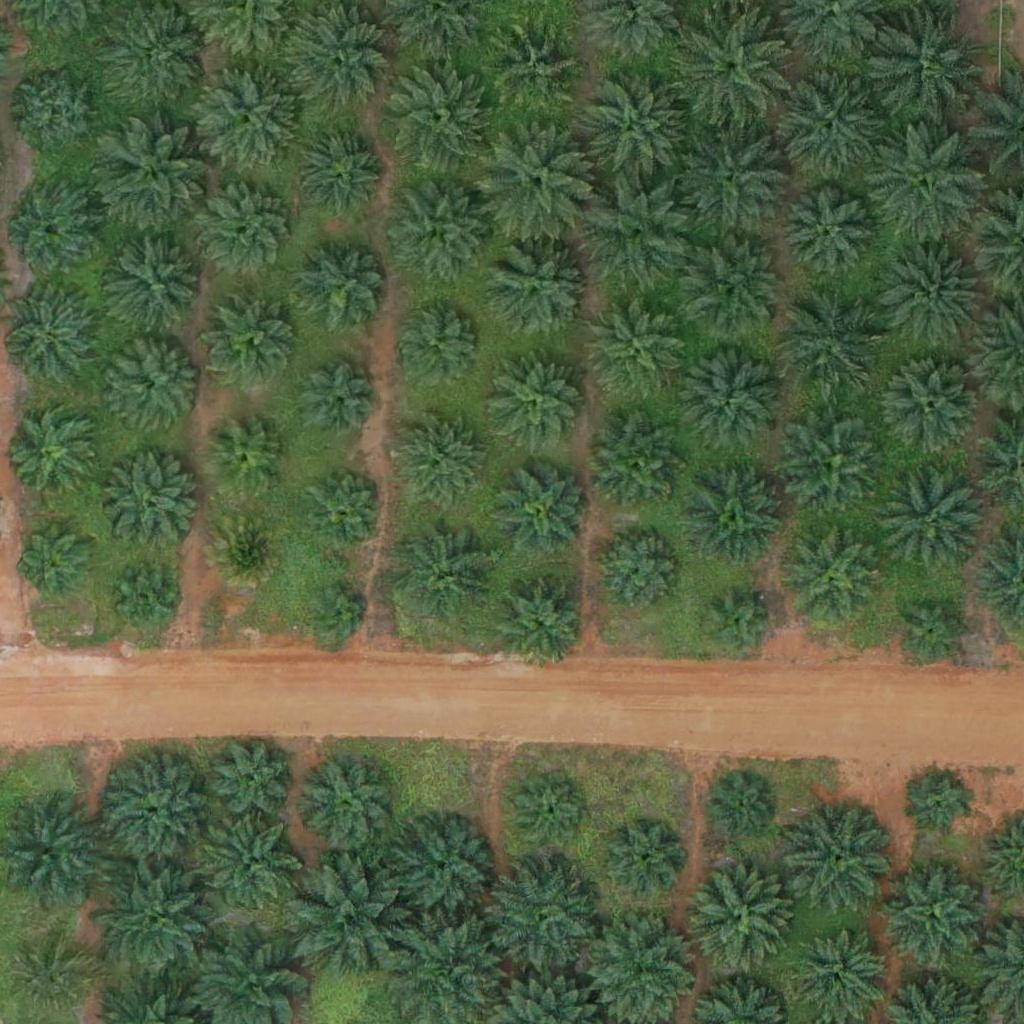Kelapa_Sawit: (92, 853, 217, 979), (284, 856, 409, 982), (675, 13, 788, 126), (674, 118, 787, 231), (577, 67, 690, 180), (873, 13, 985, 127), (870, 127, 982, 240), (774, 72, 886, 185), (583, 174, 695, 287), (481, 123, 593, 236), (380, 62, 492, 175), (102, 125, 214, 238), (483, 856, 595, 969), (881, 244, 981, 345), (882, 357, 982, 458), (882, 466, 982, 567), (781, 289, 881, 390), (783, 415, 883, 516), (783, 527, 883, 628), (689, 239, 789, 340), (683, 347, 783, 448), (684, 469, 784, 570), (590, 296, 690, 397), (589, 413, 689, 514), (488, 238, 588, 339), (487, 354, 587, 455), (391, 182, 491, 283), (288, 4, 388, 105), (108, 1, 208, 102), (102, 756, 202, 857), (690, 865, 790, 966), (792, 806, 892, 907), (883, 863, 983, 964), (490, 571, 590, 671), (396, 521, 496, 621), (198, 67, 298, 167), (196, 178, 296, 278), (106, 335, 206, 435), (102, 453, 202, 553), (201, 813, 301, 913), (391, 819, 491, 919), (491, 24, 579, 113), (595, 527, 683, 615), (209, 298, 297, 386), (112, 238, 200, 326), (783, 191, 870, 279), (500, 467, 587, 555), (394, 298, 481, 386), (396, 410, 483, 498), (293, 128, 380, 216), (299, 247, 386, 335), (14, 69, 101, 157), (15, 187, 102, 275), (6, 293, 93, 381), (12, 412, 99, 500), (207, 734, 294, 822), (301, 760, 388, 848), (209, 423, 284, 499), (299, 362, 374, 438), (512, 777, 587, 853), (701, 586, 776, 662), (306, 471, 381, 547), (210, 512, 285, 588), (108, 561, 183, 637), (16, 940, 91, 1015), (609, 821, 684, 896), (897, 594, 972, 669), (18, 520, 93, 595), (710, 775, 773, 838), (308, 584, 370, 647), (910, 773, 972, 836)
